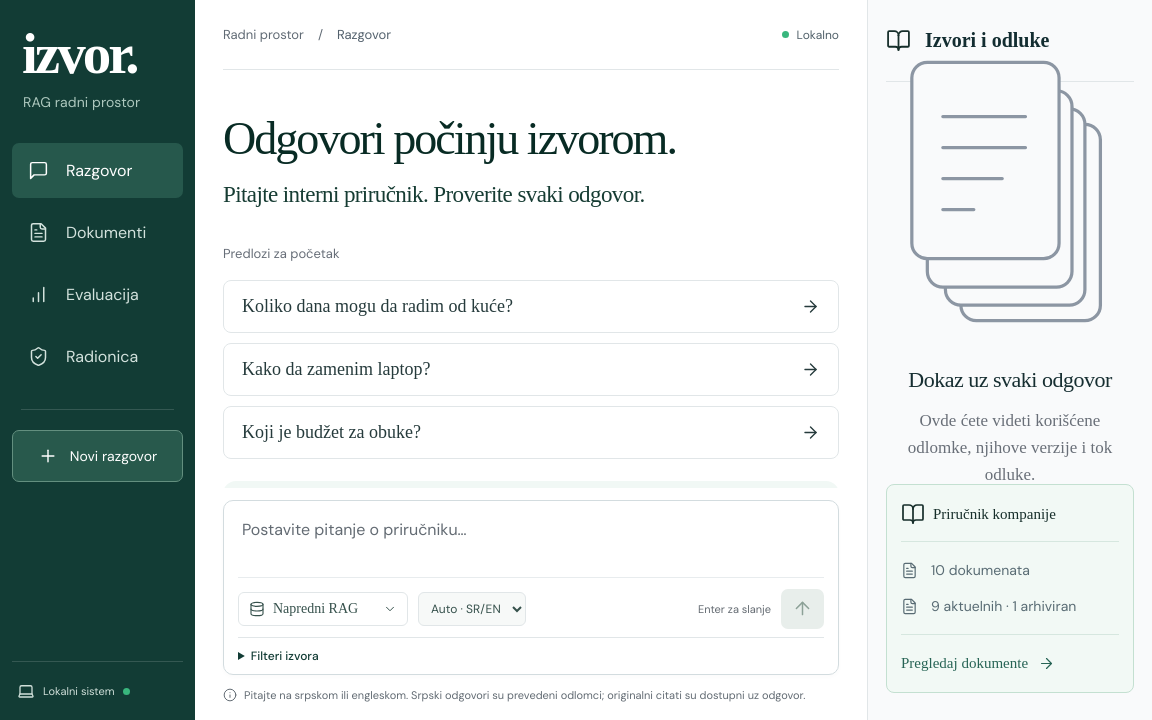
Test: real UI contracts › clears the previous sources while the next question is pending
The width and height of the screenshot is (1152, 720).
Select "English" in the dropdown named "Jezik pitanja". click: (472, 608)
box: x1=418 y1=592 x2=526 y2=626
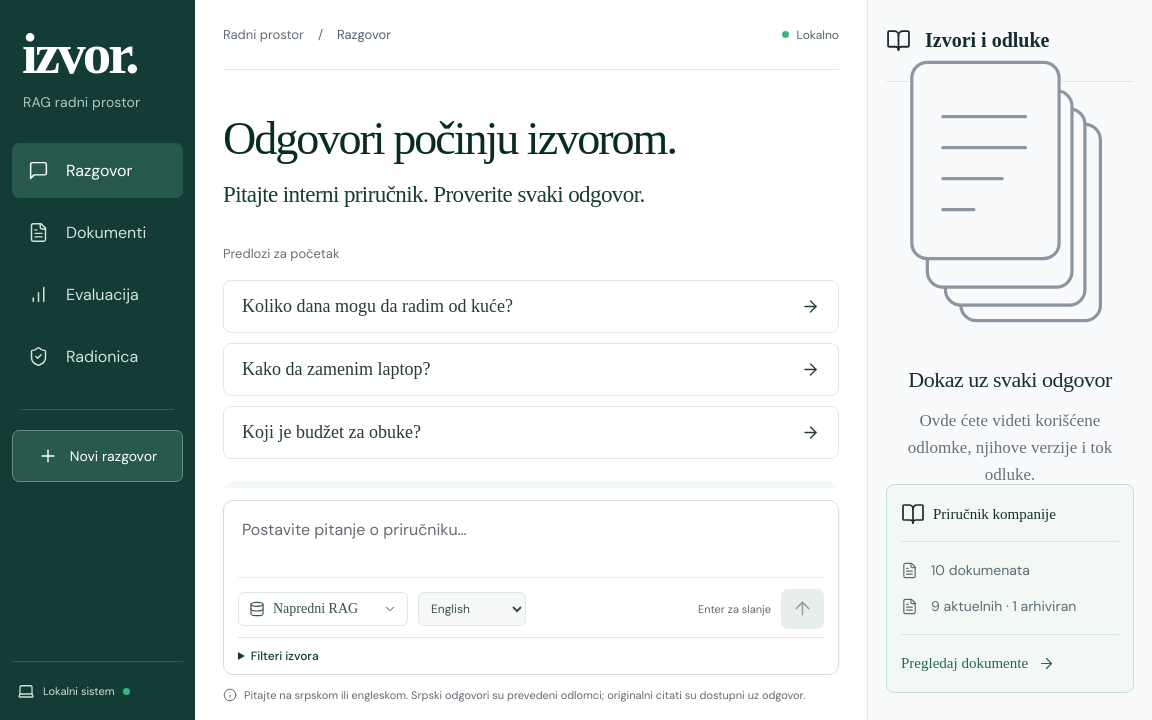
Click the button "Koliko dana mogu da radim od kuće?". click: (377, 306)
box: x1=223 y1=280 x2=839 y2=333
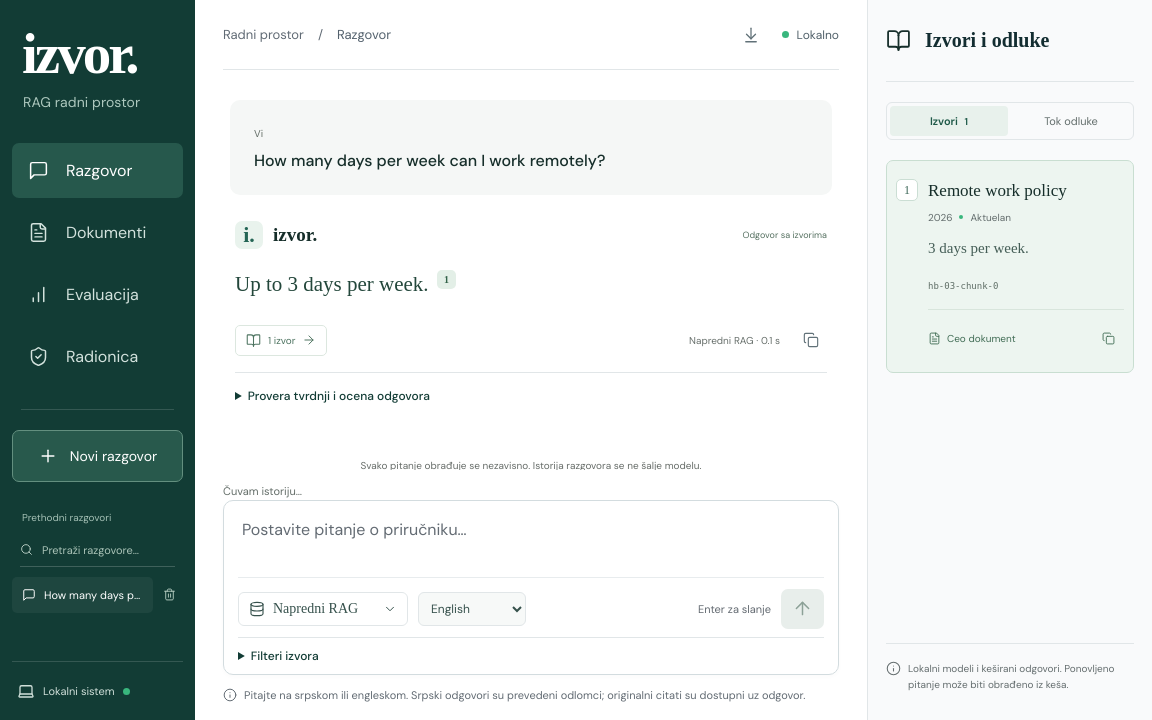
Expected: the text "Up to 3 days per week." is shown, x1=235 y1=272 x2=434 y2=296
Type "Next question" into the text box labelled "pitanje o priručniku". click: (531, 547)
box: x1=238 y1=517 x2=824 y2=576
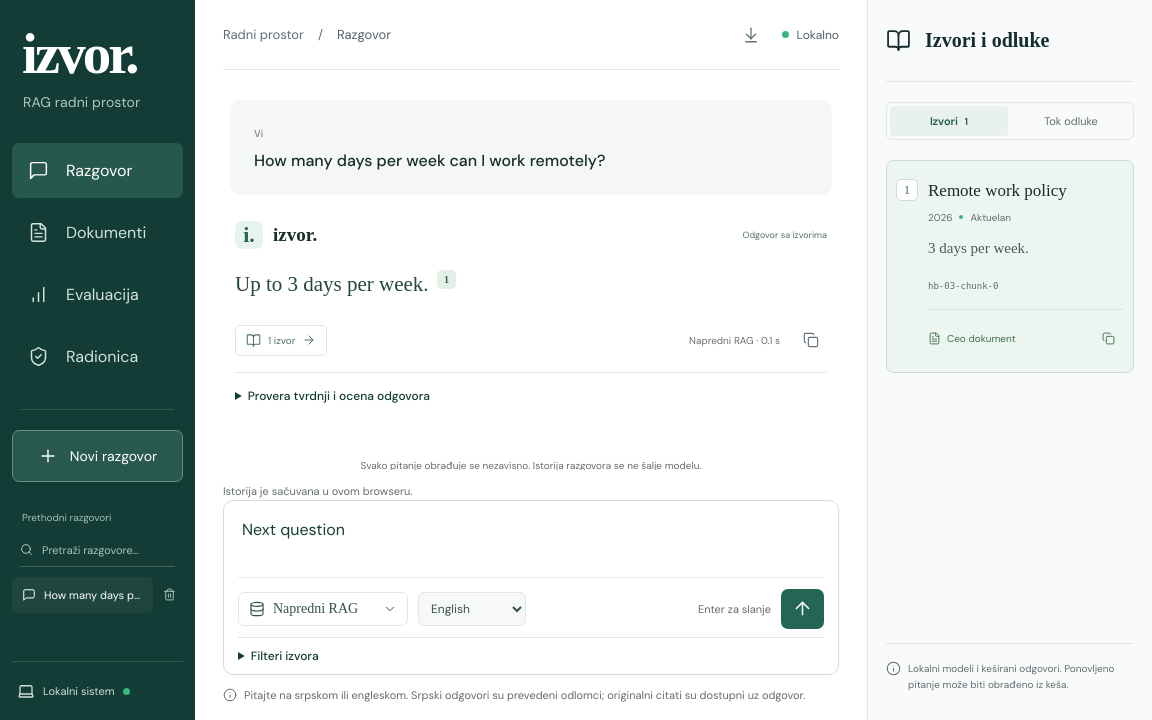
Click the button named "Pošalji pitanje". click: (802, 608)
box: x1=781 y1=588 x2=824 y2=628
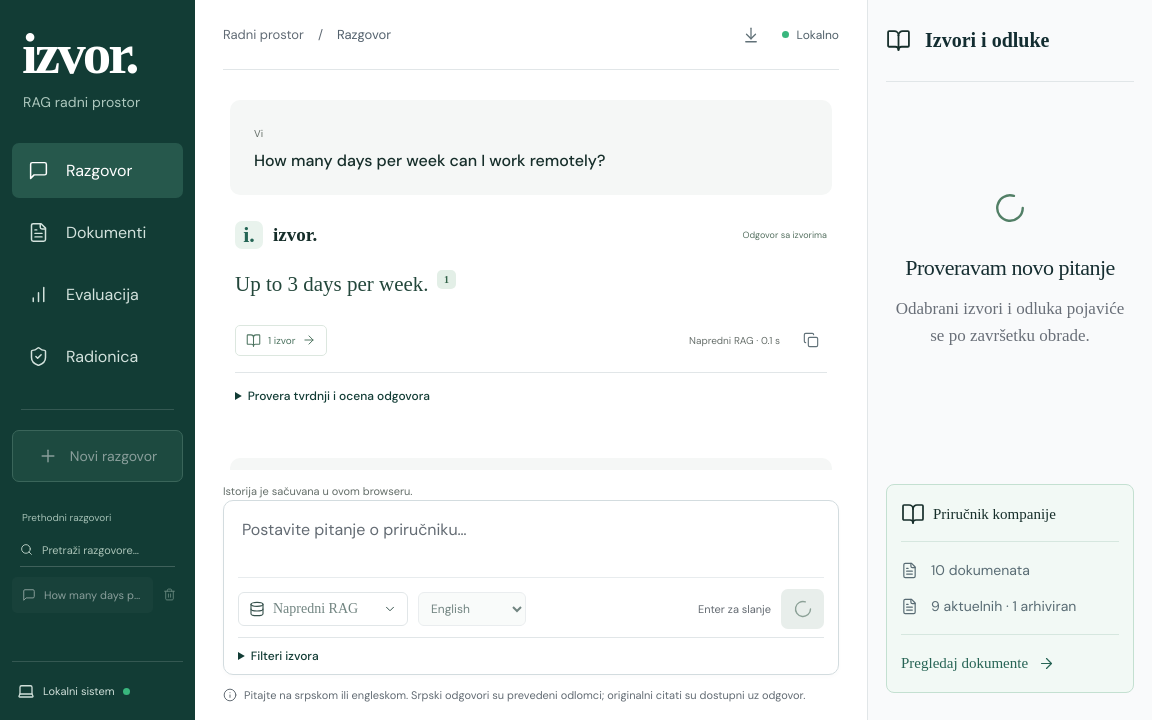
Expected: the heading "Proveravam novo pitanje" is shown, x1=905 y1=255 x2=1115 y2=281
